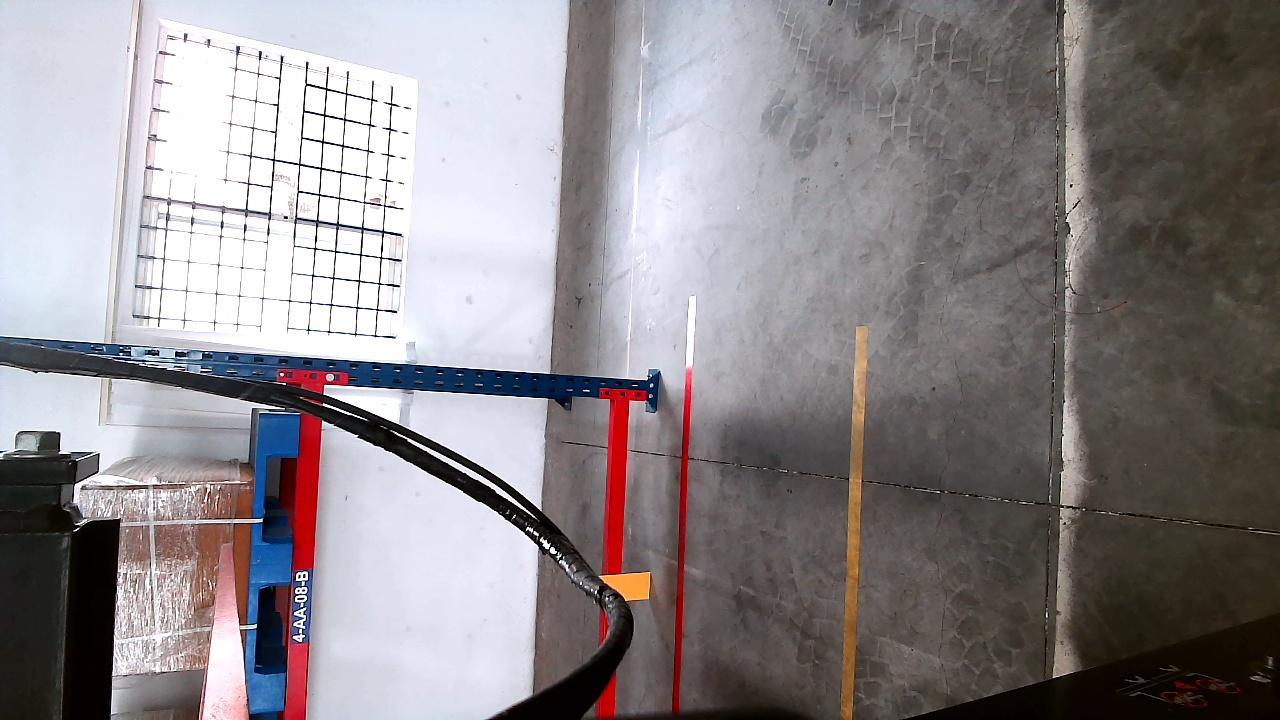red_line: (669, 295, 698, 714)
yellow_line: (841, 323, 867, 718)
